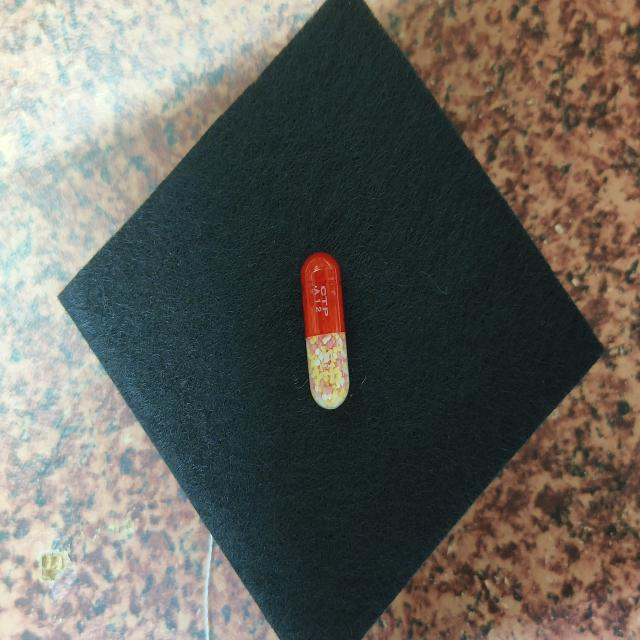Intact Capsule: (301, 252, 349, 409)
